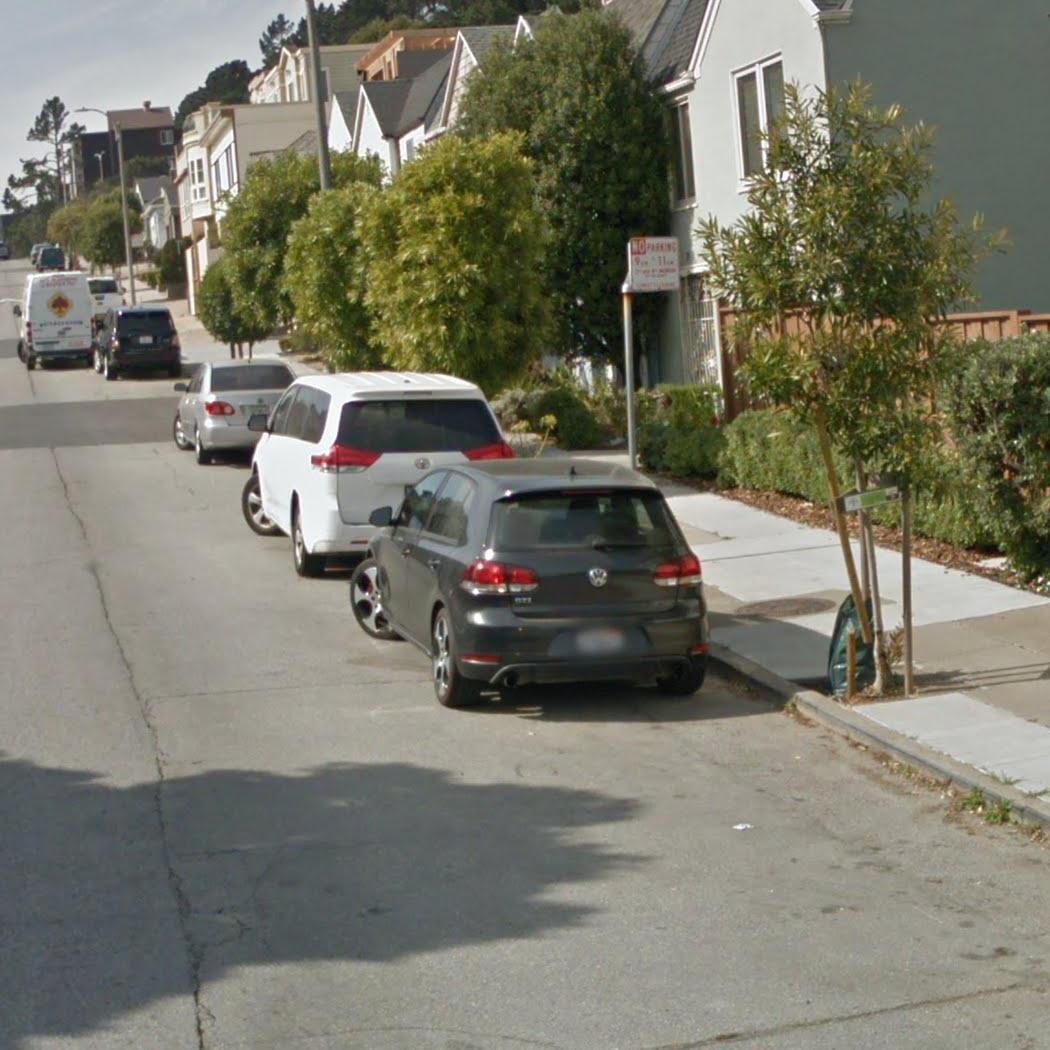No Parking: (623, 233, 684, 297)
